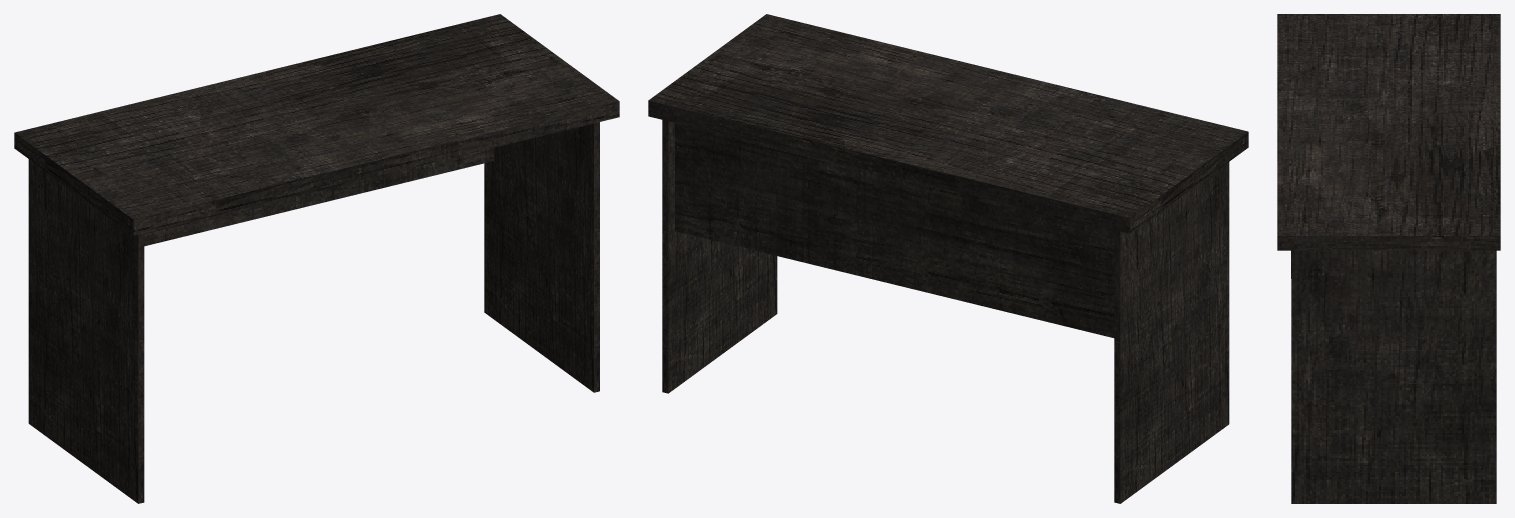
File: table_large_3.glb
The picture shows the model from 3 angles, left to right: view 1: azimuth 30°, elevation 25°; view 2: azimuth 150°, elevation 25°; view 3: azimuth 270°, elevation 25°; orthographic projection. The views are drawn at different scales.
Visible parts, largest first — view 1: table_large_3; view 2: table_large_3; view 3: table_large_3.
Part boxes in pixels (x1,y1,x2,y2): table_large_3: (14,14,619,503); table_large_3: (648,14,1248,503); table_large_3: (1277,14,1500,503).
Bounding box in the file's own units: 1.6 × 0.92 × 0.68.
Materials: 1 (1 with a texture image).
